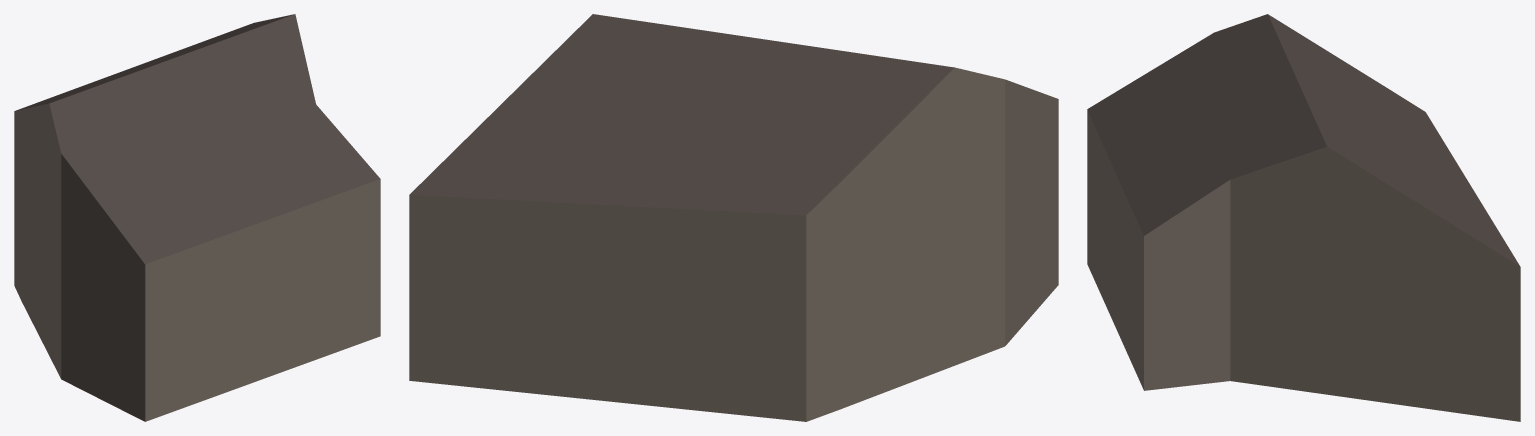
The picture shows the model from 3 angles, left to right: view 1: azimuth 30°, elevation 25°; view 2: azimuth 150°, elevation 25°; view 3: azimuth 270°, elevation 25°; orthographic projection. The views are drawn at different scales.
Parts seen in each view (by area): view 1: HP-w1198840825; view 2: HP-w1198840825; view 3: HP-w1198840825.
Part boxes in pixels (<box>): HP-w1198840825: <box>14,14,380,421</box>; HP-w1198840825: <box>409,14,1058,421</box>; HP-w1198840825: <box>1087,14,1520,421</box>.
Bounding box in the file's own units: 13.89 × 9.61 × 15.22.
